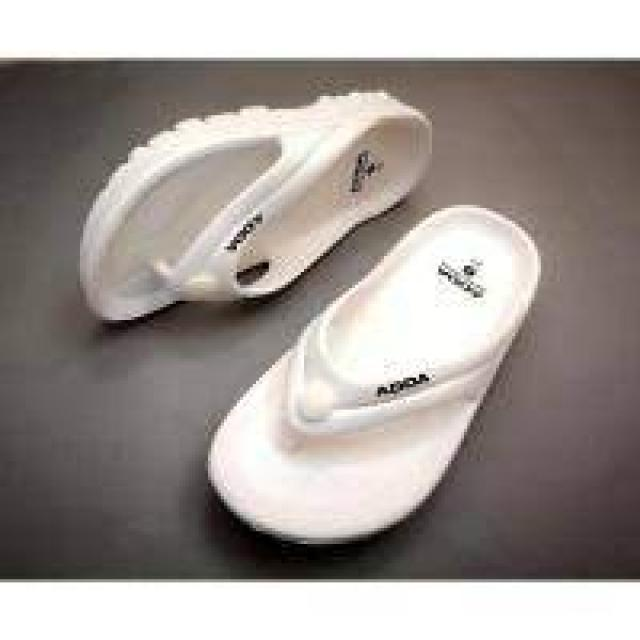shoe: (73, 81, 545, 548), (200, 203, 541, 528), (72, 87, 438, 328)
